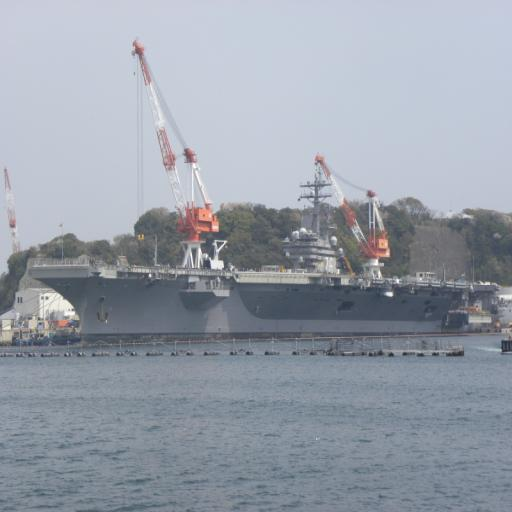Portanaves: (23, 169, 476, 354)
